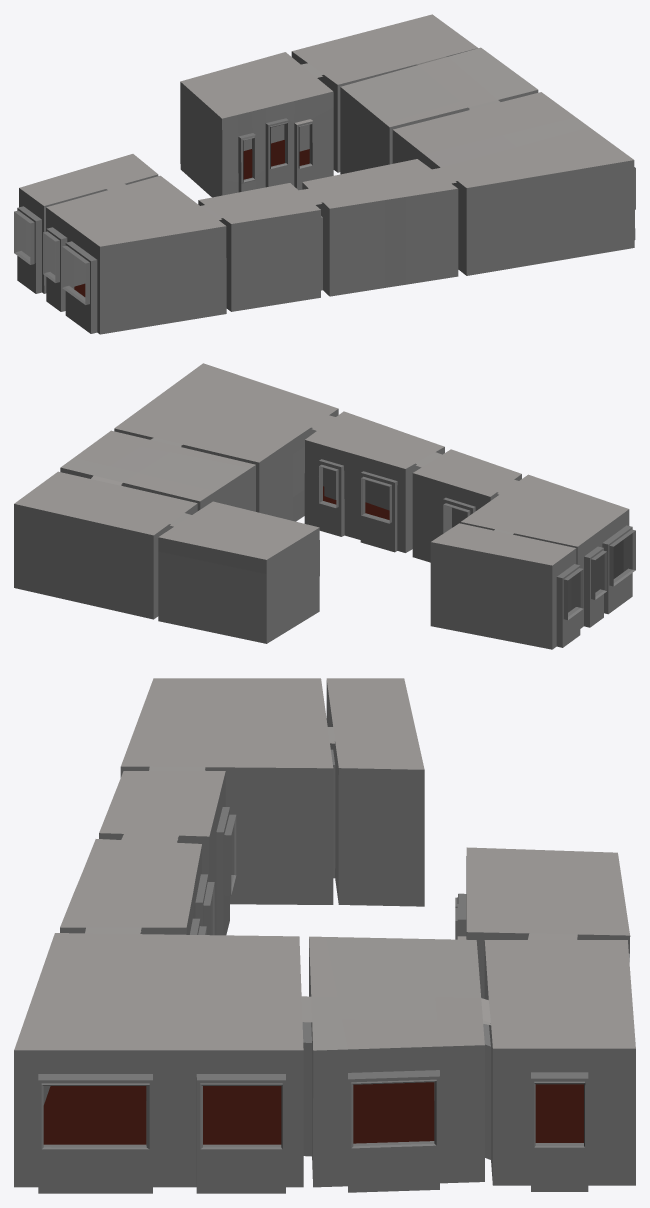
The model's file is mozarthaus_v06.obj.
The picture shows the model from 3 angles, top to bottom: view 1: azimuth 30°, elevation 25°; view 2: azimuth 150°, elevation 25°; view 3: azimuth 270°, elevation 25°; orthographic projection. The views are drawn at different scales.
Visible parts, largest first — view 1: Mozart_Hause.002_Plane.005; view 2: Mozart_Hause.002_Plane.005; view 3: Mozart_Hause.002_Plane.005.
Part boxes in pixels (x1,y1,x2,y2): Mozart_Hause.002_Plane.005: [14, 14, 635, 334]; Mozart_Hause.002_Plane.005: [14, 363, 635, 649]; Mozart_Hause.002_Plane.005: [14, 678, 635, 1193].
Bounding box in the file's own units: 6.56 × 1.11 × 4.44.
